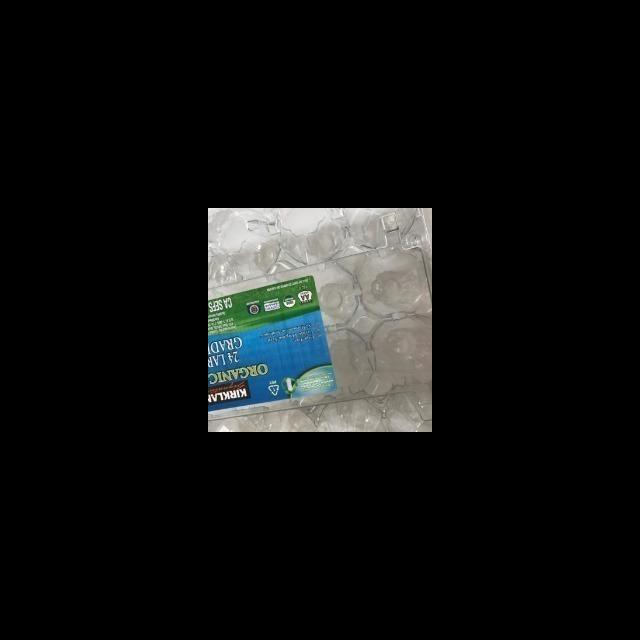plastic: (208, 208, 432, 432)
